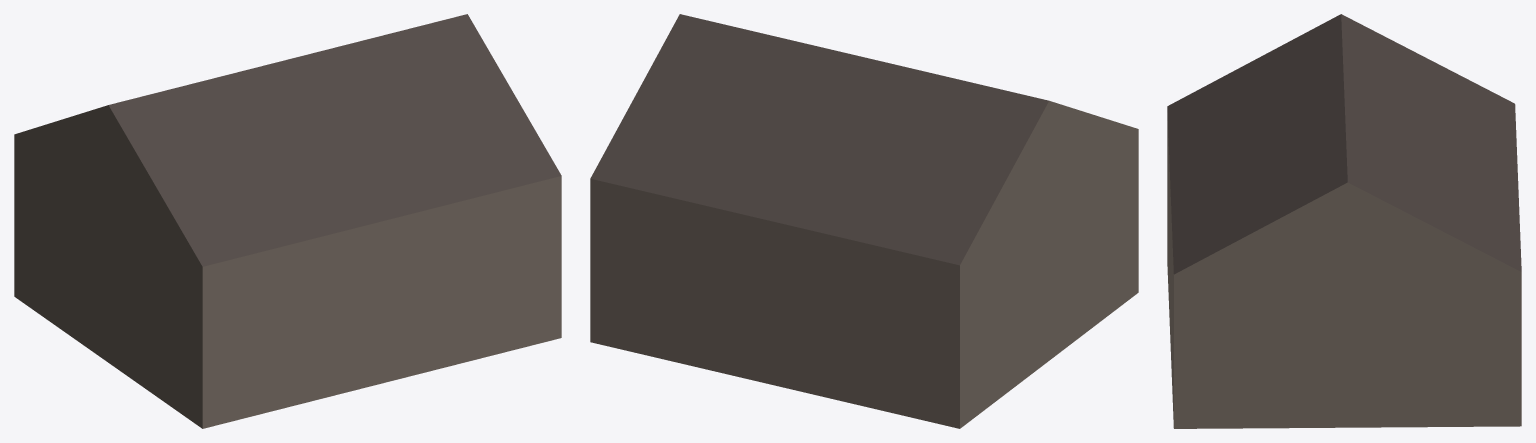
3 views of the same model, side by side, from view 1: azimuth 30°, elevation 25°; view 2: azimuth 150°, elevation 25°; view 3: azimuth 270°, elevation 25° (orthographic). The views are drawn at different scales.
Visible parts, largest first — view 1: HP-w1318376928; view 2: HP-w1318376928; view 3: HP-w1318376928.
Boxes of the visible parts, left/top/right/bottom form: HP-w1318376928: left=14, top=14, right=561, bottom=428; HP-w1318376928: left=590, top=14, right=1138, bottom=428; HP-w1318376928: left=1167, top=14, right=1521, bottom=428.
Size of the model in its own units: 14.26 by 9.54 by 12.5.
